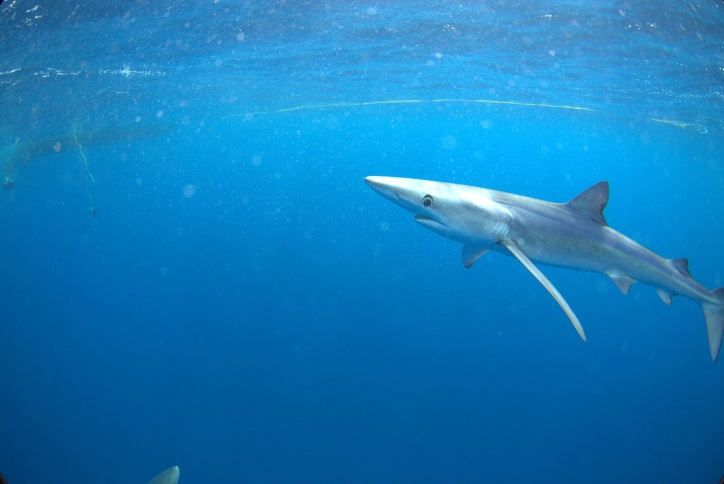Azul: (358, 149, 724, 377)
